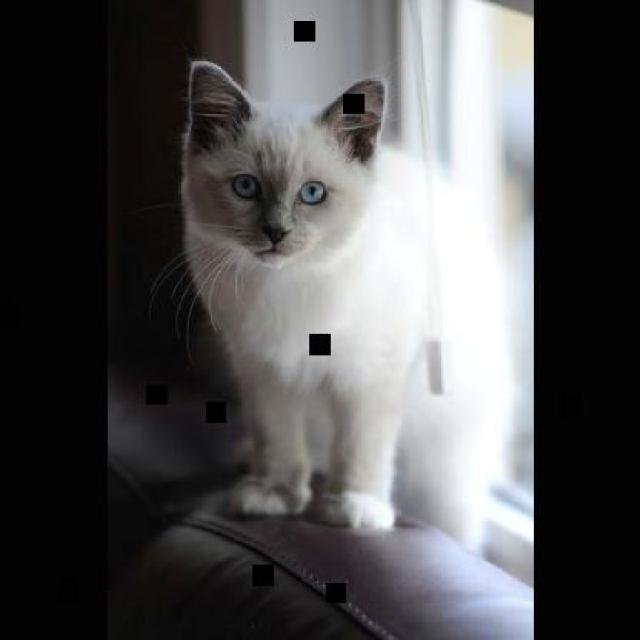unauthorized: (147, 55, 430, 531)
